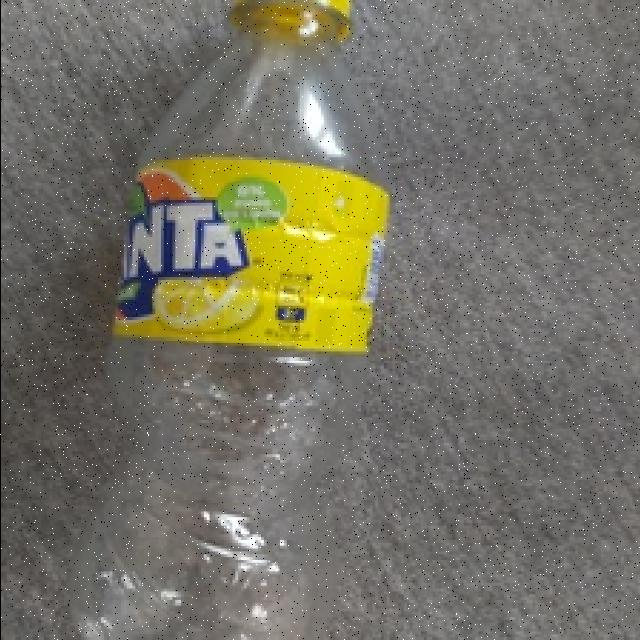plastic: (64, 4, 401, 640)
